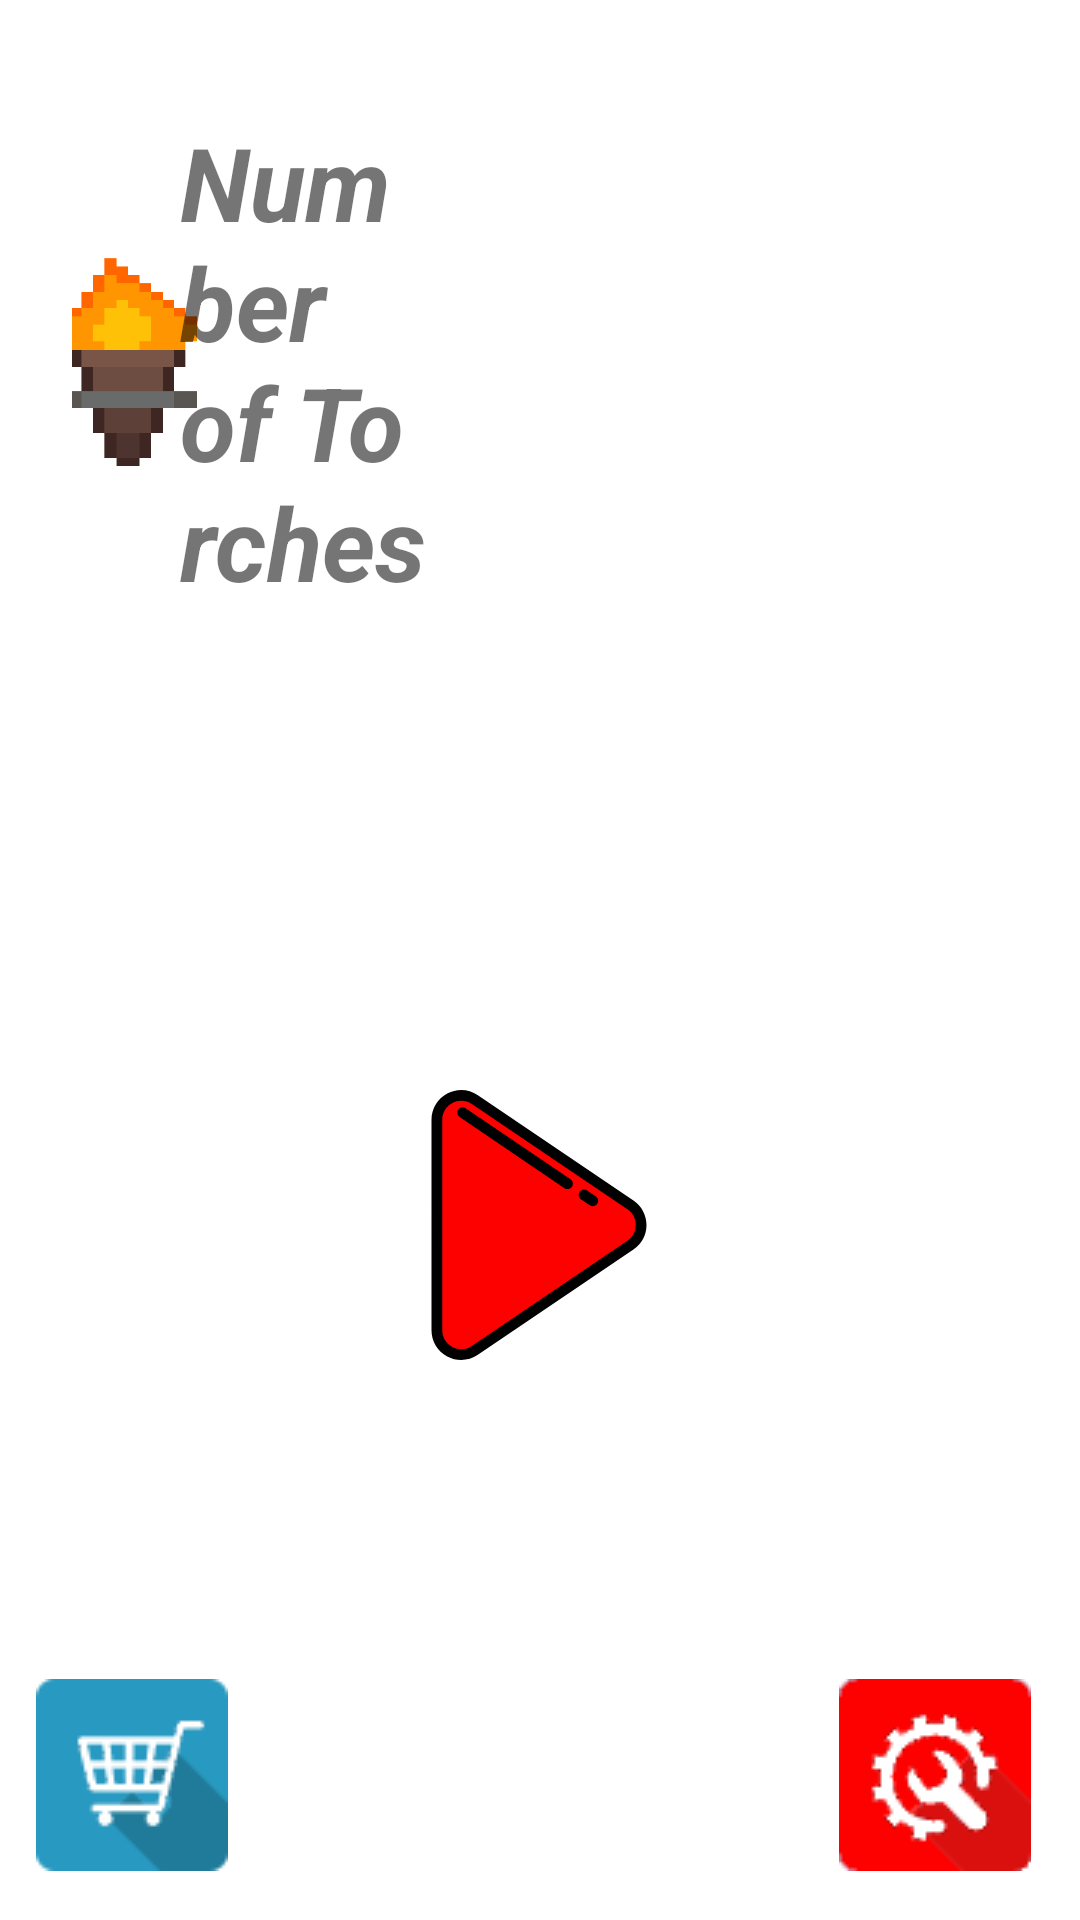

Named icons in this screenshot (1080px×1920px) and their centers, (x,y):
settings: (935,1775)
shop: (132,1775)
Start Game: (539,1225)
